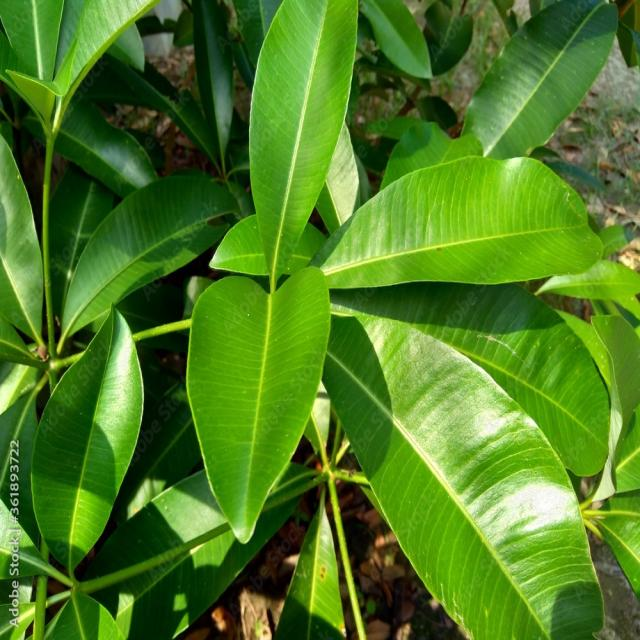Indian Pulai: (83, 17, 640, 640), (79, 147, 335, 456)
